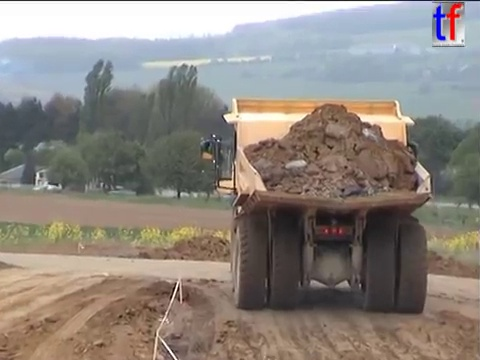truck: (197, 95, 437, 316)
